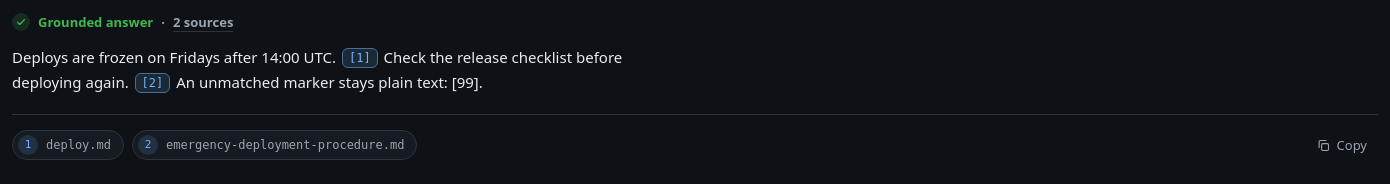
Test: answer › copies the answer text
Click the button with aria-label "Copy answer": click(1341, 145) [1304,129,1378,162]
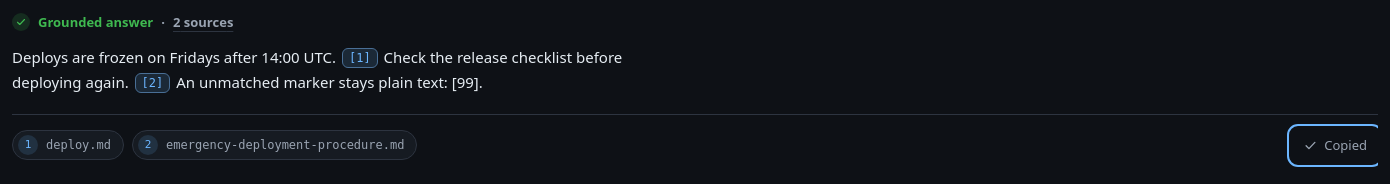
Result: the button with aria-label "Answer copied" is shown at [1292,129,1378,162]
